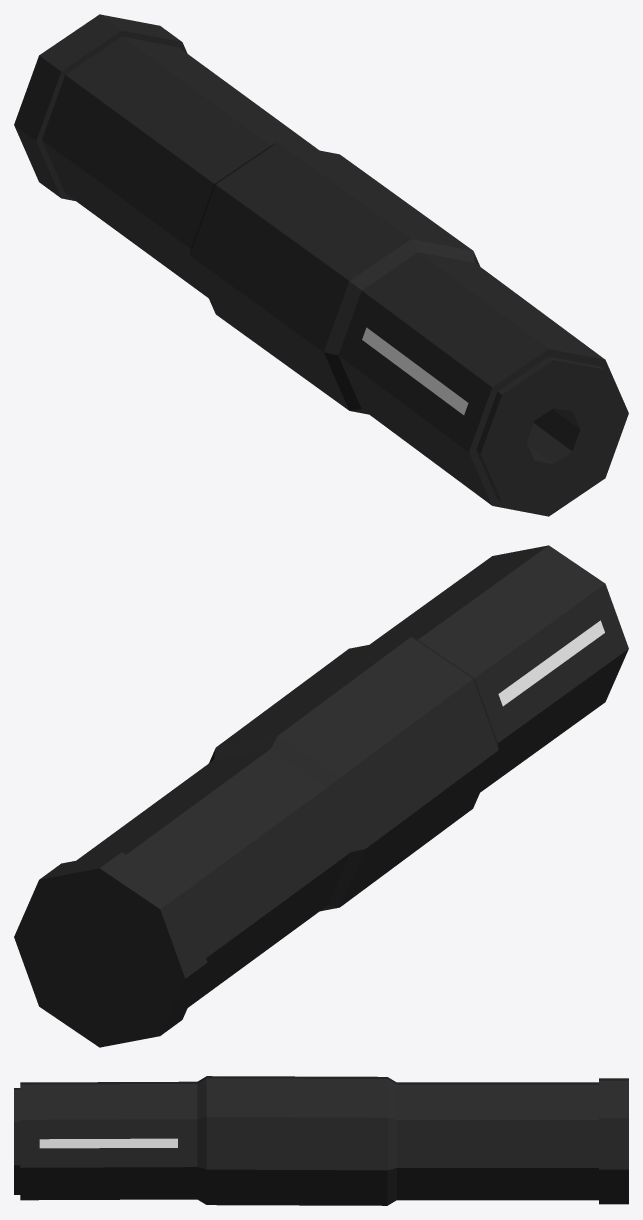
File: suppressor_d.fbx
3 views of the same model, one above another, from view 1: azimuth 30°, elevation 25°; view 2: azimuth 150°, elevation 25°; view 3: azimuth 270°, elevation 25° (orthographic). The views are drawn at different scales.
Parts seen in each view (by area): view 1: Suppressor_d; view 2: Suppressor_d; view 3: Suppressor_d.
Part boxes in pixels (bbox=[...]): Suppressor_d: bbox=[14, 14, 628, 516]; Suppressor_d: bbox=[14, 545, 628, 1047]; Suppressor_d: bbox=[14, 1076, 628, 1205].
Size of the model in its own units: 3.98 by 4 by 17.83.
Materials: 1 (1 with a texture image).
